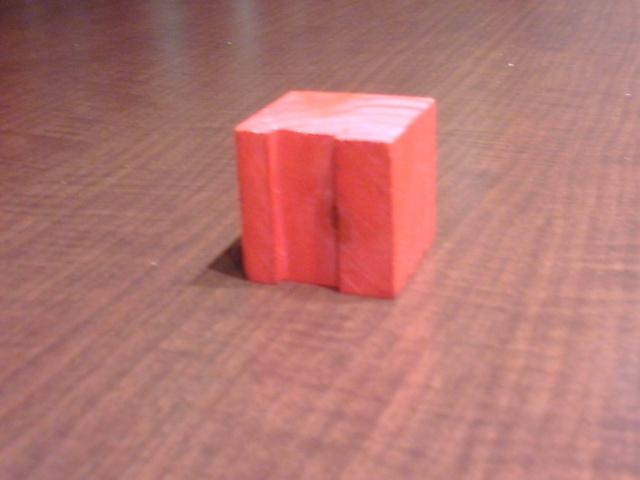RedBlock: (238, 125, 402, 299)
